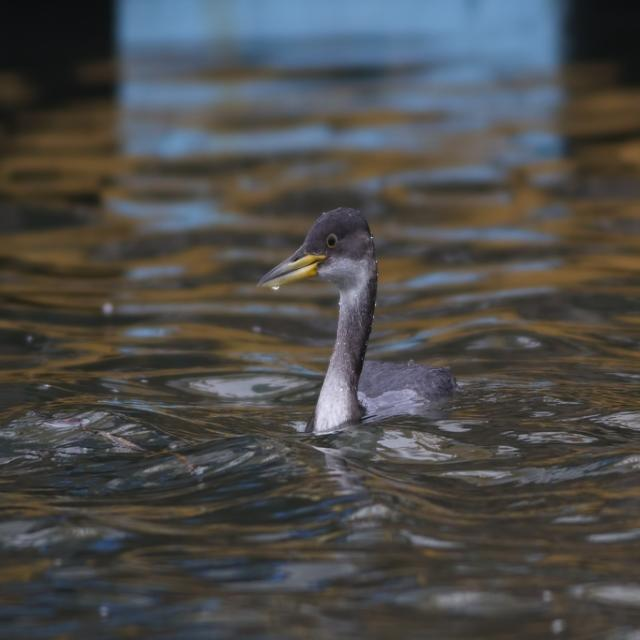bird: (257, 204, 462, 436)
